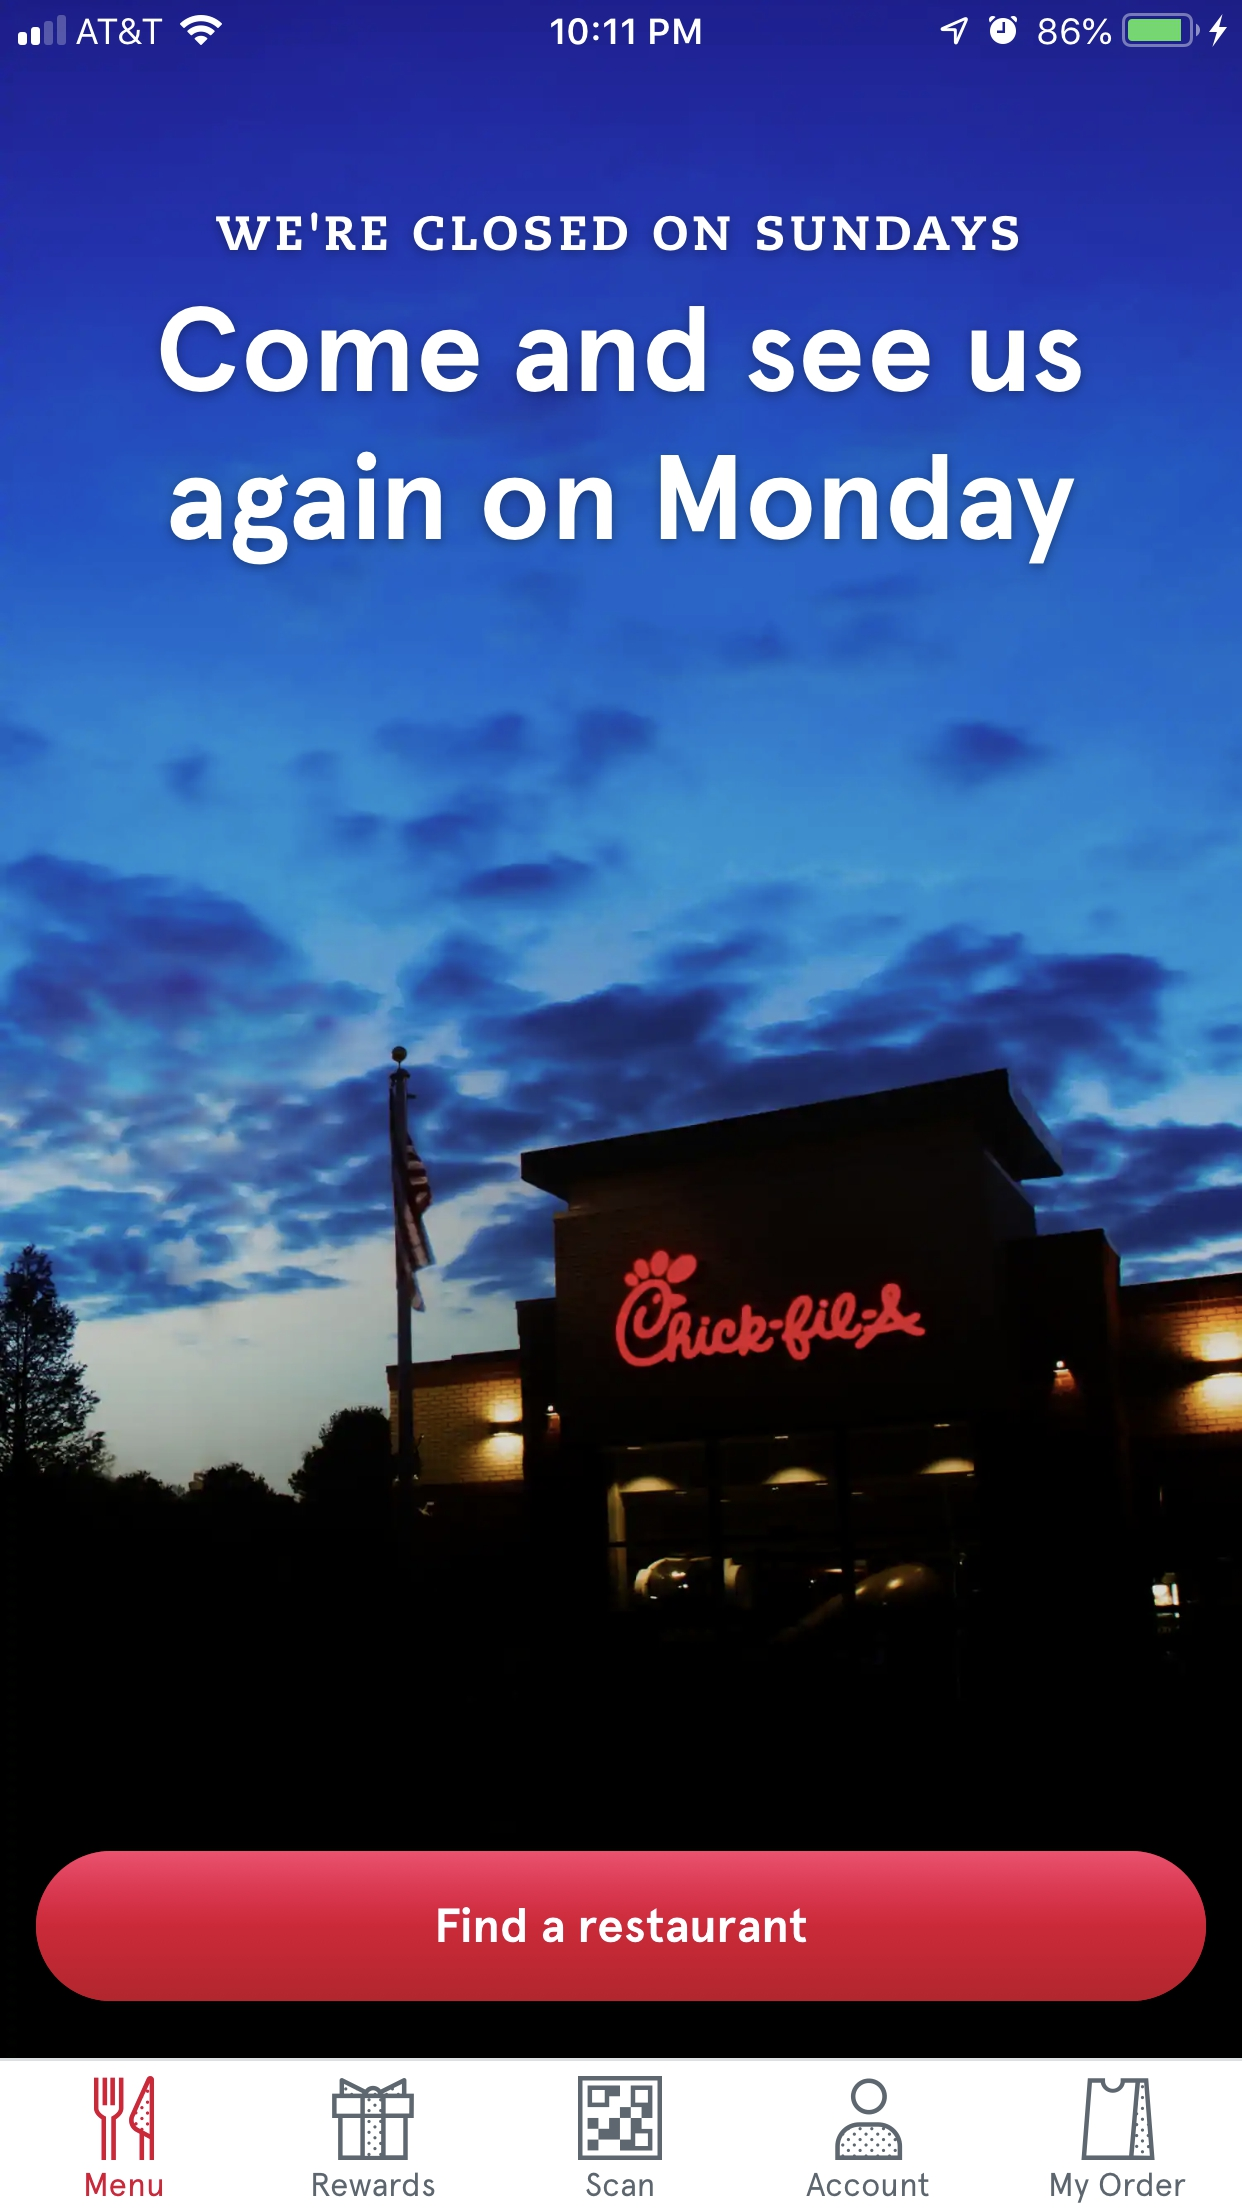BackgroundImage: (2, 2, 1242, 2059)
Icon: (332, 2078, 416, 2161), (834, 2078, 902, 2161)
Image: (578, 2075, 663, 2161), (1081, 2078, 1156, 2161), (94, 2075, 156, 2161)
Text: (159, 305, 1083, 567), (215, 212, 1021, 253), (1049, 2172, 1186, 2203), (805, 2172, 930, 2197), (312, 2172, 437, 2197), (86, 2172, 164, 2197), (585, 2172, 655, 2197)
TextButton: (36, 1852, 1207, 2002)
UpperTaskBar: (2, 2, 1242, 49)
